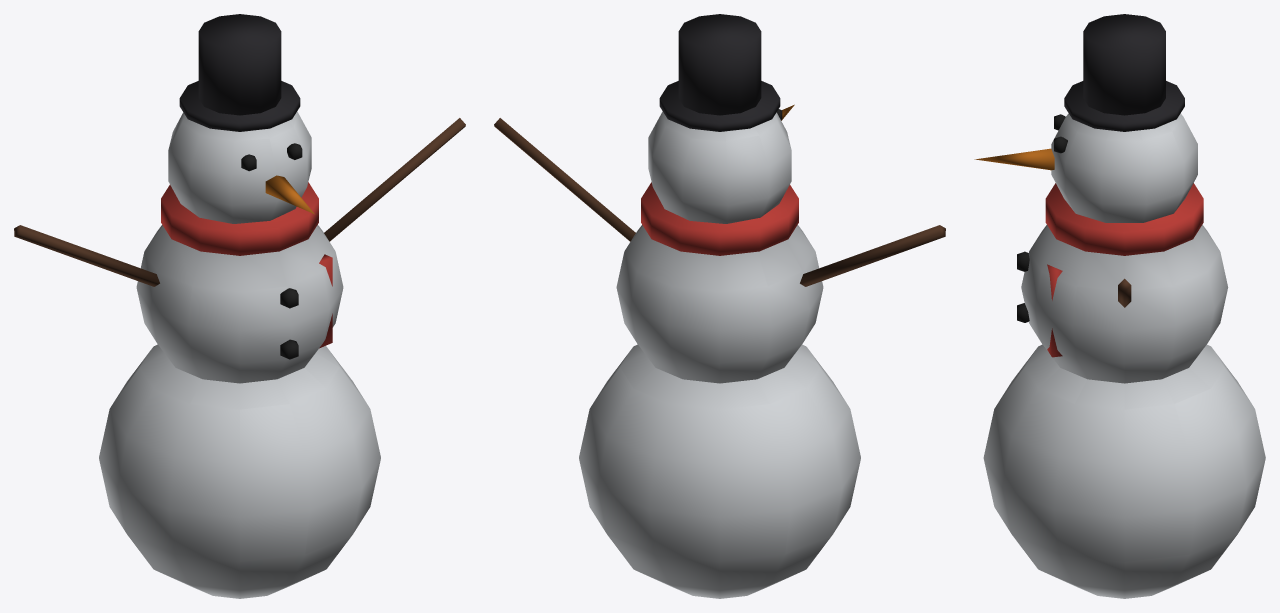
The model's file is prop.glacier_snowman.glb.
3 renders of one model, left to right at view 1: azimuth 30°, elevation 25°; view 2: azimuth 150°, elevation 25°; view 3: azimuth 270°, elevation 25°, orthographic.
Parts seen in each view (by area): view 1: glacier_snowman; view 2: glacier_snowman; view 3: glacier_snowman.
Boxes of the visible parts, x1=… form: glacier_snowman: x1=14, y1=14, x2=465, y2=598; glacier_snowman: x1=494, y1=14, x2=945, y2=598; glacier_snowman: x1=974, y1=14, x2=1265, y2=598.
Size of the model in its own units: 2.77 by 3.25 by 1.55.
